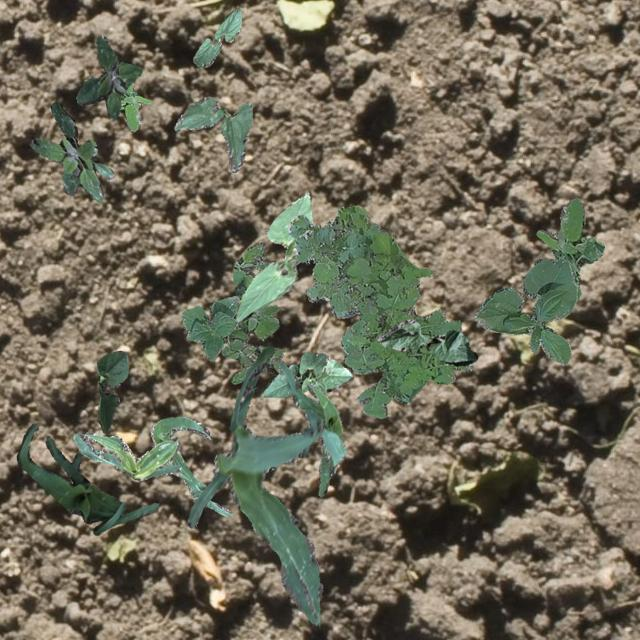crop: (185, 344, 322, 624), (16, 422, 158, 534), (474, 256, 576, 364), (232, 192, 310, 324), (278, 362, 344, 496), (148, 416, 230, 516), (174, 96, 252, 172), (73, 430, 179, 480), (376, 318, 476, 366), (260, 351, 352, 396), (180, 294, 238, 360), (192, 5, 240, 66), (96, 349, 128, 434)
weed: (286, 205, 472, 418), (220, 240, 284, 382), (28, 100, 114, 202), (536, 196, 604, 298), (74, 34, 140, 118), (118, 84, 150, 130)
